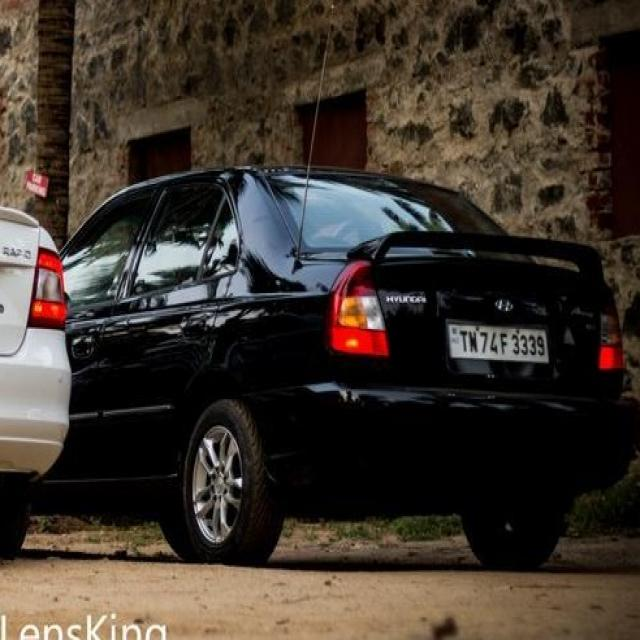license-plate: (442, 319, 549, 360)
